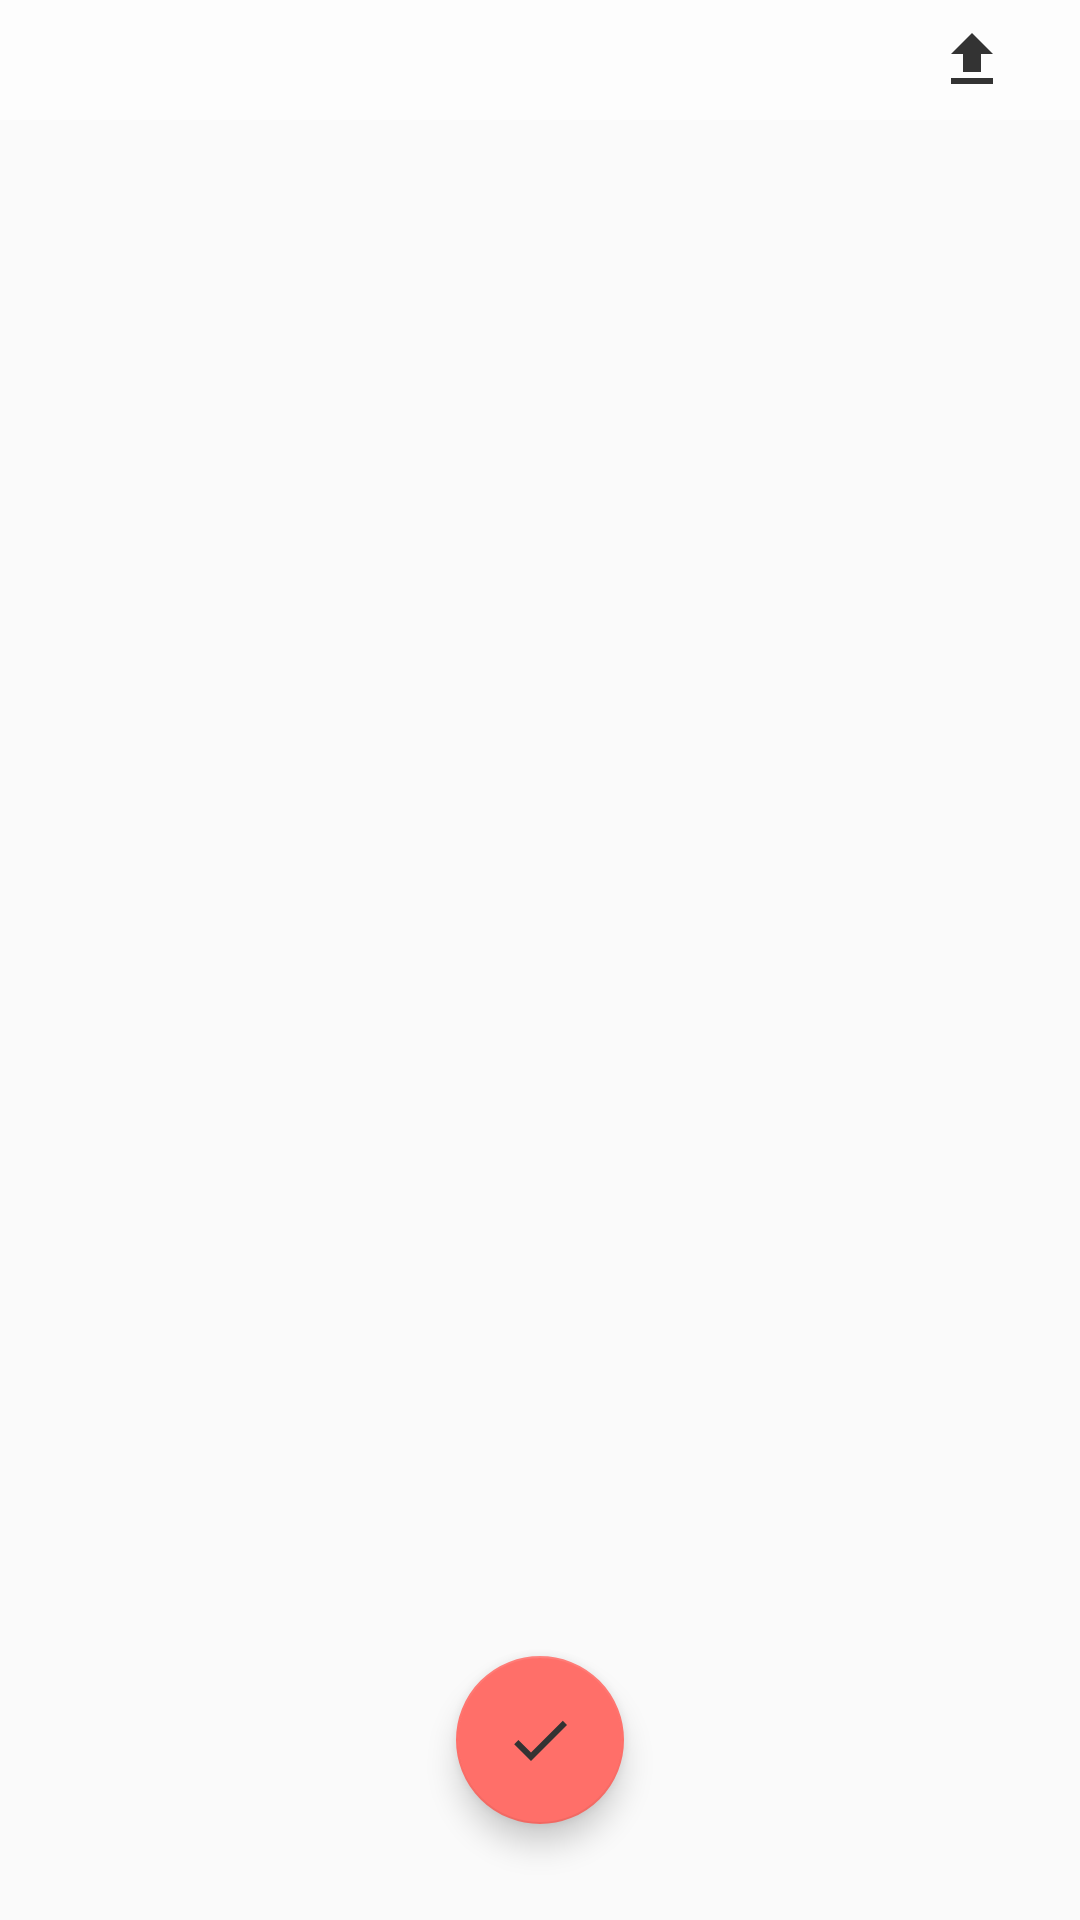

Point at icon controls on the screen. Image size 1080 × 1920, points as (x=x, y=y).
done: (x=540, y=1740)
file upload: (x=972, y=58)
